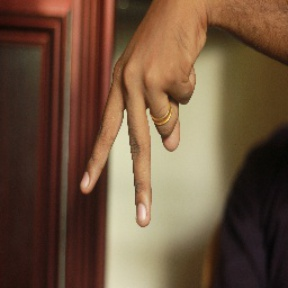Y: (78, 44, 199, 229)
